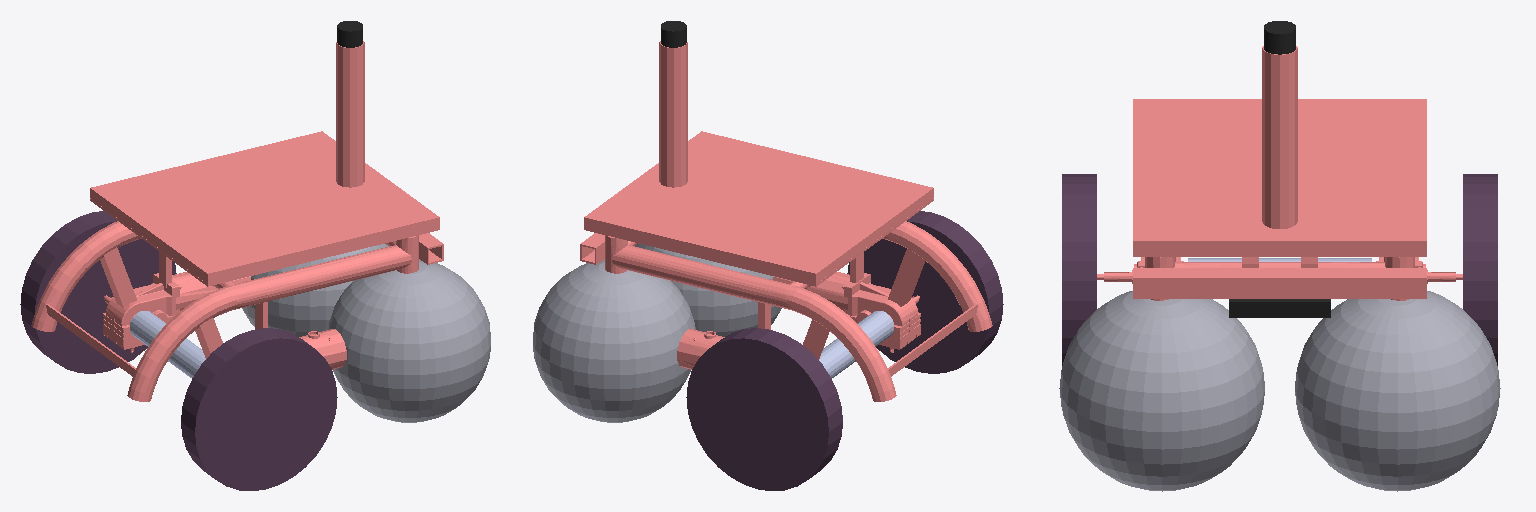
URDF robot description (ryobi1):
<?xml version="1.0" ?>
<!-- =================================================================================== -->
<!-- |    This document was autogenerated by xacro from ryobi.xacro                    | -->
<!-- |    EDITING THIS FILE BY HAND IS NOT RECOMMENDED                                 | -->
<!-- =================================================================================== -->
<robot name="ryobi1">
  <!-- Put here the robot description -->
  <!-- <xacro:property name="chassisHeight" value="0.6"/>
<xacro:property name="chassisLength" value="0.6"/>
<xacro:property name="chassisWidth" value="0.4"/>
<xacro:property name="chassisMass" value="60"/>

<xacro:property name="casterRadius" value="0.05"/>
<xacro:property name="casterMass" value="5"/>

<xacro:property name="wheelWidth" value="0.05"/>
<xacro:property name="wheelRadius" value="0.175"/>
<xacro:property name="wheelPos" value="0.2"/>
<xacro:property name="wheelMass" value="5"/> -->
  <link name="base_link">
    <inertial>
      <origin rpy="0 0 0" xyz="6.91988338659226E-19 3.5768146697519E-17 -1.0730567343407E-05"/>
      <mass value="1.970929557271"/>
      <inertia ixx="0.0081092304873294" ixy="0" ixz="0" iyy="0.000481702314803318" iyz="0" izz="0.00810923059912716"/>
    </inertial>
    <visual>
      <origin rpy="1.57075 0 0" xyz="0 0 0"/>
      <geometry>
        <mesh filename="package://ryobi_description/meshes/base_link.STL"/>
      </geometry>
      <material name="">
        <color rgba="0.792156862745098 0.819607843137255 0.929411764705882 1"/>
      </material>
    </visual>
    <collision>
      <origin rpy="0 0 0" xyz="0 0 0.2"/>
      <geometry>
        <mesh filename="package://ryobi_description/meshes/base_link.STL"/>
      </geometry>
    </collision>
  </link>
  <link name="base_chassis">
    <inertial>
      <origin rpy="0 0 0" xyz="0.181603473423253 -0.000423114885192326 0.205427256737739"/>
      <mass value="50.2237550496739"/>
      <inertia ixx="0.836997349041027" ixy="-0.00168405453672539" ixz="-0.183461599791679" iyy="0.936897263728091" iyz="-0.000798821974002513" izz="1.1702629745091"/>
    </inertial>
    <visual>
      <origin rpy="0 0 0" xyz="0 0 0"/>
      <geometry>
        <mesh filename="package://ryobi_description/meshes/base_chassis.STL"/>
      </geometry>
      <material name="">
        <color rgba="1 0.6 0.6 1"/>
      </material>
    </visual>
    <collision>
      <origin rpy="0 0 0" xyz="0 0 0.2"/>
      <geometry>
        <mesh filename="package://ryobi_description/meshes/base_chassis.STL"/>
      </geometry>
    </collision>
  </link>
  <joint name="chassis_joint" type="fixed">
    <origin rpy="0 0 0" xyz="0 0 0"/>
    <parent link="base_link"/>
    <child link="base_chassis"/>
    <axis xyz="0 0 0"/>
  </joint>
  <link name="right_wheel">
    <inertial>
      <origin rpy="0 0 0" xyz="0 0 0"/>
      <mass value="5.04260292941731"/>
      <inertia ixx="0.0459749745300018" ixy="0" ixz="0" iyy="0.0882699086426018" iyz="0" izz="0.0459802250429422"/>
    </inertial>
    <visual>
      <origin rpy="1.57075 0 0" xyz="0 0 0"/>
      <geometry>
        <cylinder length="0.06" radius="0.175"/>
      </geometry>
      <material name="">
        <color rgba="0.4 0.3 0.4 1"/>
      </material>
    </visual>
    <collision>
      <origin rpy="0 0 0" xyz="0 0 0"/>
      <geometry>
        <mesh filename="package://ryobi_description/meshes/right_wheel.STL"/>
      </geometry>
    </collision>
  </link>
  <joint name="right_wheel_joint" type="continuous">
    <origin rpy="0 0 0" xyz="0 -0.340935167690438 0"/>
    <parent link="base_chassis"/>
    <child link="right_wheel"/>
    <axis xyz="0 1 0"/>
  </joint>
  <link name="left_wheel">
    <inertial>
      <origin rpy="0 0 0" xyz="0 0 0"/>
      <mass value="5.04260292941738"/>
      <inertia ixx="0.045982644460097" ixy="0" ixz="0" iyy="0.0882699086426026" iyz="0" izz="0.0459725551128475"/>
    </inertial>
    <visual>
      <origin rpy="1.57075 0 0" xyz="0 0 0"/>
      <geometry>
        <cylinder length="0.06" radius="0.175"/>
      </geometry>
      <material name="">
        <color rgba="0.4 0.3 0.4 1"/>
      </material>
    </visual>
    <collision>
      <origin rpy="0 0 0" xyz="0 0 0"/>
      <geometry>
        <mesh filename="package://ryobi_description/meshes/left_wheel.STL"/>
      </geometry>
    </collision>
  </link>
  <joint name="left_wheel_joint" type="continuous">
    <origin rpy="0 0 0" xyz="0 0.340935167690436 0"/>
    <parent link="base_chassis"/>
    <child link="left_wheel"/>
    <axis xyz="0 1 0"/>
  </joint>
  <link name="lidar_link">
    <inertial>
      <origin rpy="0 0 0" xyz="0 0 0"/>
      <mass value="0.0643435627862969"/>
      <inertia ixx="2.27573653741118E-05" ixy="0" ixz="0" iyy="2.27566607831175E-05" iyz="0" izz="3.10330524076829E-05"/>
    </inertial>
    <visual>
      <origin rpy="0 0 0" xyz="0 0 0"/>
      <geometry>
        <cylinder length="0.051" radius="0.02775"/>
      </geometry>
      <material name="">
        <color rgba="0.2 0.2 0.2 1"/>
      </material>
    </visual>
    <collision>
      <origin rpy="0 0 0" xyz="0 0 0"/>
      <geometry>
        <mesh filename="package://ryobi_description/meshes/lidar_link.STL"/>
      </geometry>
    </collision>
  </link>
  <joint name="lidar_joint" type="fixed">
    <origin rpy="0 0 0" xyz="0.420680776383363 0 0.638754575428308"/>
    <parent link="base_chassis"/>
    <child link="lidar_link"/>
    <axis xyz="0 0 0"/>
  </joint>
  <link name="camera_link">
    <inertial>
      <origin rpy="0 0 0" xyz="0 0 0"/>
      <mass value="0.152248853886065"/>
      <inertia ixx="0.000372324484018108" ixy="0" ixz="0" iyy="2.2816408993192E-05" iyz="0" izz="0.000374742168752938"/>
    </inertial>
    <visual>
      <origin rpy="0 0 0" xyz="0 0 0"/>
      <geometry>
        <box size="0.033 0.175 0.03"/>
      </geometry>
      <material name="">
        <color rgba="0.2 0.2 0.2 1"/>
      </material>
    </visual>
    <collision>
      <origin rpy="0 0 0" xyz="0 0 0"/>
      <geometry>
        <mesh filename="package://ryobi_description/meshes/camera_link.STL"/>
      </geometry>
    </collision>
  </link>
  <joint name="camera_joint" type="fixed">
    <origin rpy="0 0.065321 0" xyz="0.5 0 0.179722496868772"/>
    <parent link="base_chassis"/>
    <child link="camera_link"/>
    <axis xyz="0 0 0"/>
  </joint>
  <link name="right_front">
    <inertial>
      <origin rpy="0 0 0" xyz="0.477137660665035 -0.200921644523563 -0.0488991518472257"/>
      <mass value="3.50122221252234"/>
      <inertia ixx="0.0175205102369225" ixy="0" ixz="0" iyy="0.0287663416883134" iyz="0" izz="0.0152787513337016"/>
    </inertial>
    <visual>
      <origin rpy="0 0 0" xyz="0 0 0"/>
      <geometry>
        <sphere radius="0.175"/>
      </geometry>
      <material name="">
        <color rgba="0.7 0.7 0.75 1"/>
      </material>
    </visual>
    <collision>
      <origin rpy="0 0 0" xyz="0 0 0"/>
      <geometry>
        <sphere radius="0.175"/>
      </geometry>
    </collision>
  </link>
  <joint name="right_front-joint" type="fixed">
    <origin rpy="0 0 0" xyz="0.45 -0.2 0"/>
    <parent link="base_link"/>
    <child link="right_front"/>
    <axis xyz="0 0 0"/>
  </joint>
  <link name="left_front">
    <inertial>
      <origin rpy="0 0 0" xyz="0.477137660665035 0.206578355476427 -0.0488991518472244"/>
      <mass value="3.50122221252326"/>
      <inertia ixx="0.0175205102369239" ixy="0" ixz="0" iyy="0.0287663416883133" iyz="0" izz="0.0152787513337033"/>
    </inertial>
    <visual>
      <origin rpy="0 0 0" xyz="0 0 0"/>
      <geometry>
        <sphere radius="0.175"/>
      </geometry>
      <material name="">
        <color rgba="0.7 0.7 0.75 1"/>
      </material>
    </visual>
    <collision>
      <origin rpy="0 0 0" xyz="0 0 0"/>
      <geometry>
        <sphere radius="0.175"/>
      </geometry>
    </collision>
  </link>
  <joint name="left_front_joint" type="fixed">
    <origin rpy="0 0 0" xyz="0.45 0.2 0"/>
    <parent link="base_link"/>
    <child link="left_front"/>
    <axis xyz="0 0 0"/>
  </joint>
  <transmission name="left_wheel_transmission">
    <type>transmission_interface/SimpleTransmission</type>
    <joint name="left_wheel_joint">
      <hardwareInterface>hardware_interface/VelocityJointInterface</hardwareInterface>
    </joint>
    <actuator name="left_wheel_actuator">
      <mechanicalReduction>1</mechanicalReduction>
      <hardwareInterface>hardware_interface/VelocityJointInterface</hardwareInterface>
    </actuator>
  </transmission>
  <transmission name="right_wheel_transmission">
    <type>transmission_interface/SimpleTransmission</type>
    <joint name="right_wheel_joint">
      <hardwareInterface>hardware_interface/VelocityJointInterface</hardwareInterface>
    </joint>
    <actuator name="right_wheel_actuator">
      <mechanicalReduction>1</mechanicalReduction>
      <hardwareInterface>hardware_interface/VelocityJointInterface</hardwareInterface>
    </actuator>
  </transmission>
  <gazebo reference="base_link">
    <turnGravityOff>false</turnGravityOff>
    <material>Gazebo/Red</material>
  </gazebo>
  <gazebo reference="base_chassis">
    <turnGravityOff>false</turnGravityOff>
    <material>Gazebo/DarkYellow</material>
  </gazebo>
  <gazebo reference="left_front">
    <material>Gazebo/Black</material>
    <turnGravityOff>false</turnGravityOff>
    <mu1 value="0.0001"/>
    <mu2 value="0.0001"/>
    <kp value="10000000.0"/>
    <kd value="1.0"/>
    <fdir1 value="1 0 0"/>
  </gazebo>
  <gazebo reference="right_front">
    <material>Gazebo/Black</material>
    <turnGravityOff>false</turnGravityOff>
    <mu1 value="0.0001"/>
    <mu2 value="0.0001"/>
    <kp value="10000000.0"/>
    <kd value="1.0"/>
    <fdir1 value="1 0 0"/>
  </gazebo>
  <gazebo reference="left_wheel">
    <material>Gazebo/Black</material>
    <turnGravityOff>false</turnGravityOff>
    <mu1 value="10.0"/>
    <mu2 value="10.0"/>
    <kp value="10000000.0"/>
    <kd value="1.0"/>
    <fdir1 value="1 0 0"/>
  </gazebo>
  <gazebo reference="right_wheel">
    <material>Gazebo/Black</material>
    <turnGravityOff>false</turnGravityOff>
    <mu1 value="10.0"/>
    <mu2 value="10.0"/>
    <kp value="10000000.0"/>
    <kd value="1.0"/>
    <fdir1 value="1 0 0"/>
  </gazebo>
  <gazebo>
    <plugin filename="libgazebo_ros_control.so" name="gazebo_ros_control">
      
    </plugin>
  </gazebo>
  <!-- camera -->
  <gazebo reference="camera_link">
    <sensor name="camera1" type="camera">
      <update_rate>30.0</update_rate>
      <camera name="head">
        <horizontal_fov>1.3962634</horizontal_fov>
        <image>
          <width>800</width>
          <height>800</height>
          <format>R8G8B8</format>
        </image>
        <clip>
          <near>0.02</near>
          <far>300</far>
        </clip>
        <noise>
          <type>gaussian</type>
          <!-- Noise is sampled independently per pixel on each frame.
               That pixel's noise value is added to each of its color
               channels, which at that point lie in the range [0,1]. -->
          <mean>0.0</mean>
          <stddev>0.007</stddev>
        </noise>
      </camera>
      <plugin filename="libgazebo_ros_camera.so" name="camera_controller">
        <alwaysOn>true</alwaysOn>
        <updateRate>0.0</updateRate>
        <cameraName>camera1</cameraName>
        <imageTopicName>image_raw</imageTopicName>
        <cameraInfoTopicName>camera_info</cameraInfoTopicName>
        <frameName>camera_link</frameName>
        <frameId>ryobi1/camera_link</frameId>
        <hackBaseline>0.07</hackBaseline>
        <distortionK1>0.0</distortionK1>
        <distortionK2>0.0</distortionK2>
        <distortionK3>0.0</distortionK3>
        <distortionT1>0.0</distortionT1>
        <distortionT2>0.0</distortionT2>
      </plugin>
    </sensor>
  </gazebo>
  <!-- hokuyo lidar-->
  <gazebo reference="lidar_link">
    <sensor name="head_hokuyo_sensor" type="ray">
      <pose>0 0 0 0 0 0</pose>
      <visualize>false</visualize>
      <update_rate>50</update_rate>
      <ray>
        <scan>
          <horizontal>
            <samples>720</samples>
            <resolution>1</resolution>
            <min_angle>-3.1415</min_angle>
            <max_angle>3.1415</max_angle>
          </horizontal>
        </scan>
        <range>
          <min>0.10</min>
          <max>10.0</max>
          <resolution>0.01</resolution>
        </range>
        <noise>
          <type>gaussian</type>
          <!-- Noise parameters based on published spec for Hokuyo laser
               achieving "+-30mm" accuracy at range < 10m.  A mean of 0.0m and
               stddev of 0.01m will put 99.7% of samples within 0.03m of the true
               reading. -->
          <mean>0.0</mean>
          <stddev>0.01</stddev>
        </noise>
      </ray>
      <plugin filename="libgazebo_ros_laser.so" name="gazebo_ros_head_hokuyo_controller">
        <topicName>laser/scan</topicName>
        <frameName>lidar_link</frameName>
        <frameId>ryobi1/lidar_link</frameId>
      </plugin>
    </sensor>
  </gazebo>
  <gazebo reference="base_link">
    <gravity>true</gravity>
    <sensor name="imu_sensor" type="imu">
      <always_on>true</always_on>
      <update_rate>50</update_rate>
      <visualize>true</visualize>
      <topic>imu</topic>
      <plugin filename="libgazebo_ros_imu_sensor.so" name="imu_plugin">
        <topicName>imu</topicName>
        <updateRateHZ>50.0</updateRateHZ>
        <gaussianNoise>0.00000001</gaussianNoise>
        <xyzOffset>0 0 0</xyzOffset>
        <rpyOffset>0 0 0</rpyOffset>
        <frameName>ryobi1/base_link</frameName>
        <initialOrientationAsReference>false</initialOrientationAsReference>
      </plugin>
    </sensor>
  </gazebo>
  <gazebo>
    <plugin filename="libhector_gazebo_ros_gps.so" name="gps_controller">
      <alwayson>true</alwayson>
      <updaterate>1.0</updaterate>
      <bodyname>base_link</bodyname>
      <topicname>gps/fix</topicname>
      <frameId>ryobi1/base_link</frameId>
      <velocitytopicname>gps/fix_velocity</velocitytopicname>
      <drift>0 0 0</drift>
      <gaussiannoise>0.000001 0.000001 0.000001</gaussiannoise>
      <velocitydrift>0 0 0</velocitydrift>
      <velocitygaussiannoise>0.000001 0.000001 0.000001</velocitygaussiannoise>
    </plugin>
  </gazebo>
</robot>

--- Facts derived from the render (not from the file) ---
The picture shows the robot from 3 angles, left to right: view 1: azimuth 30°, elevation 25°; view 2: azimuth 150°, elevation 25°; view 3: azimuth 270°, elevation 25°; orthographic projection.
Robot: ryobi1 — 8 links, 7 joints (2 continuous, 5 fixed); root link base_link; default pose: all joints at 0.
Links seen in each view (by area): view 1: base_chassis, right_front, right_wheel, left_wheel, left_front, base_link, lidar_link; view 2: base_chassis, left_front, left_wheel, right_wheel, right_front, base_link, lidar_link; view 3: base_chassis, right_front, left_front, right_wheel, left_wheel, camera_link, lidar_link, base_link.
Link boxes in pixels (x1,y1,x2,y2): base_chassis: (31,41,443,401); right_front: (328,259,490,422); right_wheel: (181,328,337,490); left_wheel: (20,211,176,373); left_front: (242,244,388,336); base_link: (130,311,205,377); lidar_link: (337,21,362,47); base_chassis: (580,41,992,401); left_front: (533,259,695,422); left_wheel: (686,328,842,490); right_wheel: (847,211,1003,373); right_front: (635,244,781,336); base_link: (819,311,893,377); lidar_link: (661,21,686,47); base_chassis: (1097,46,1462,300); right_front: (1059,291,1264,491); left_front: (1295,291,1500,491); right_wheel: (1062,174,1096,365); left_wheel: (1463,174,1497,365); camera_link: (1229,299,1330,317); lidar_link: (1264,21,1295,54); base_link: (1188,258,1371,261).
Bounding box of the posed robot: 0.8656 × 0.75 × 0.8393 m (x, y, z).
2 mesh visuals loaded from 2 distinct referenced files (2 binary STL).
